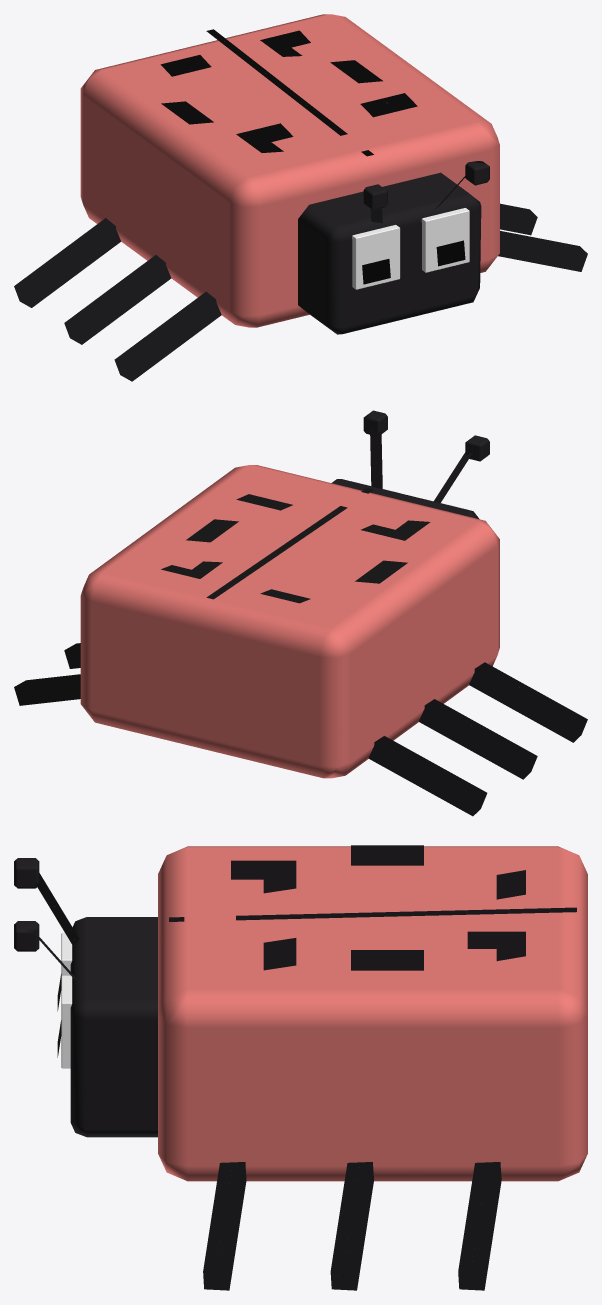
File: ladybug_lod1.glb
3 views of the same model, one above another, from view 1: azimuth 30°, elevation 25°; view 2: azimuth 150°, elevation 25°; view 3: azimuth 270°, elevation 25° (orthographic). The views are drawn at different scales.
Parts seen in each view (by area): view 1: Node; view 2: Node; view 3: Node.
Part boxes in pixels (box(x1,y1,x2,y2)): Node: box(14, 14, 587, 381); Node: box(14, 410, 587, 816); Node: box(14, 845, 587, 1290).
Size of the model in its own units: 1.31 by 0.5437 by 1.1.
Materials: 1 (1 with a texture image).
